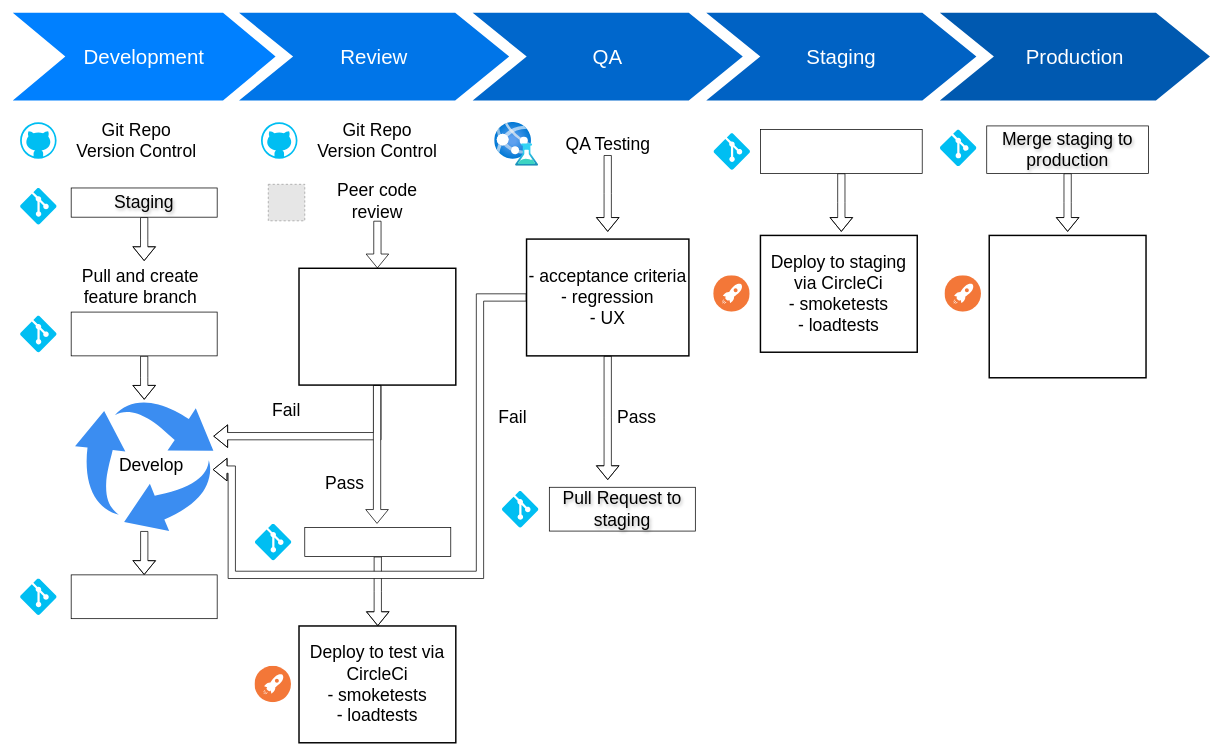
This 1222x756 diagram has some shape labels left out. Grey dashed boxes stand in for pictures. Each missing label, with the box of its shape:
####-feature-branch: (70, 311, 217, 356)
Deploy to production via CircleCi - smoketests - loadtests: (988, 234, 1146, 378)
Github Actions - build - test - lint - analyze: (298, 267, 456, 385)
Merge PR to staging: (760, 129, 922, 173)
Merge PR to test: (304, 527, 451, 557)
Pull Request to test: (70, 574, 217, 619)
